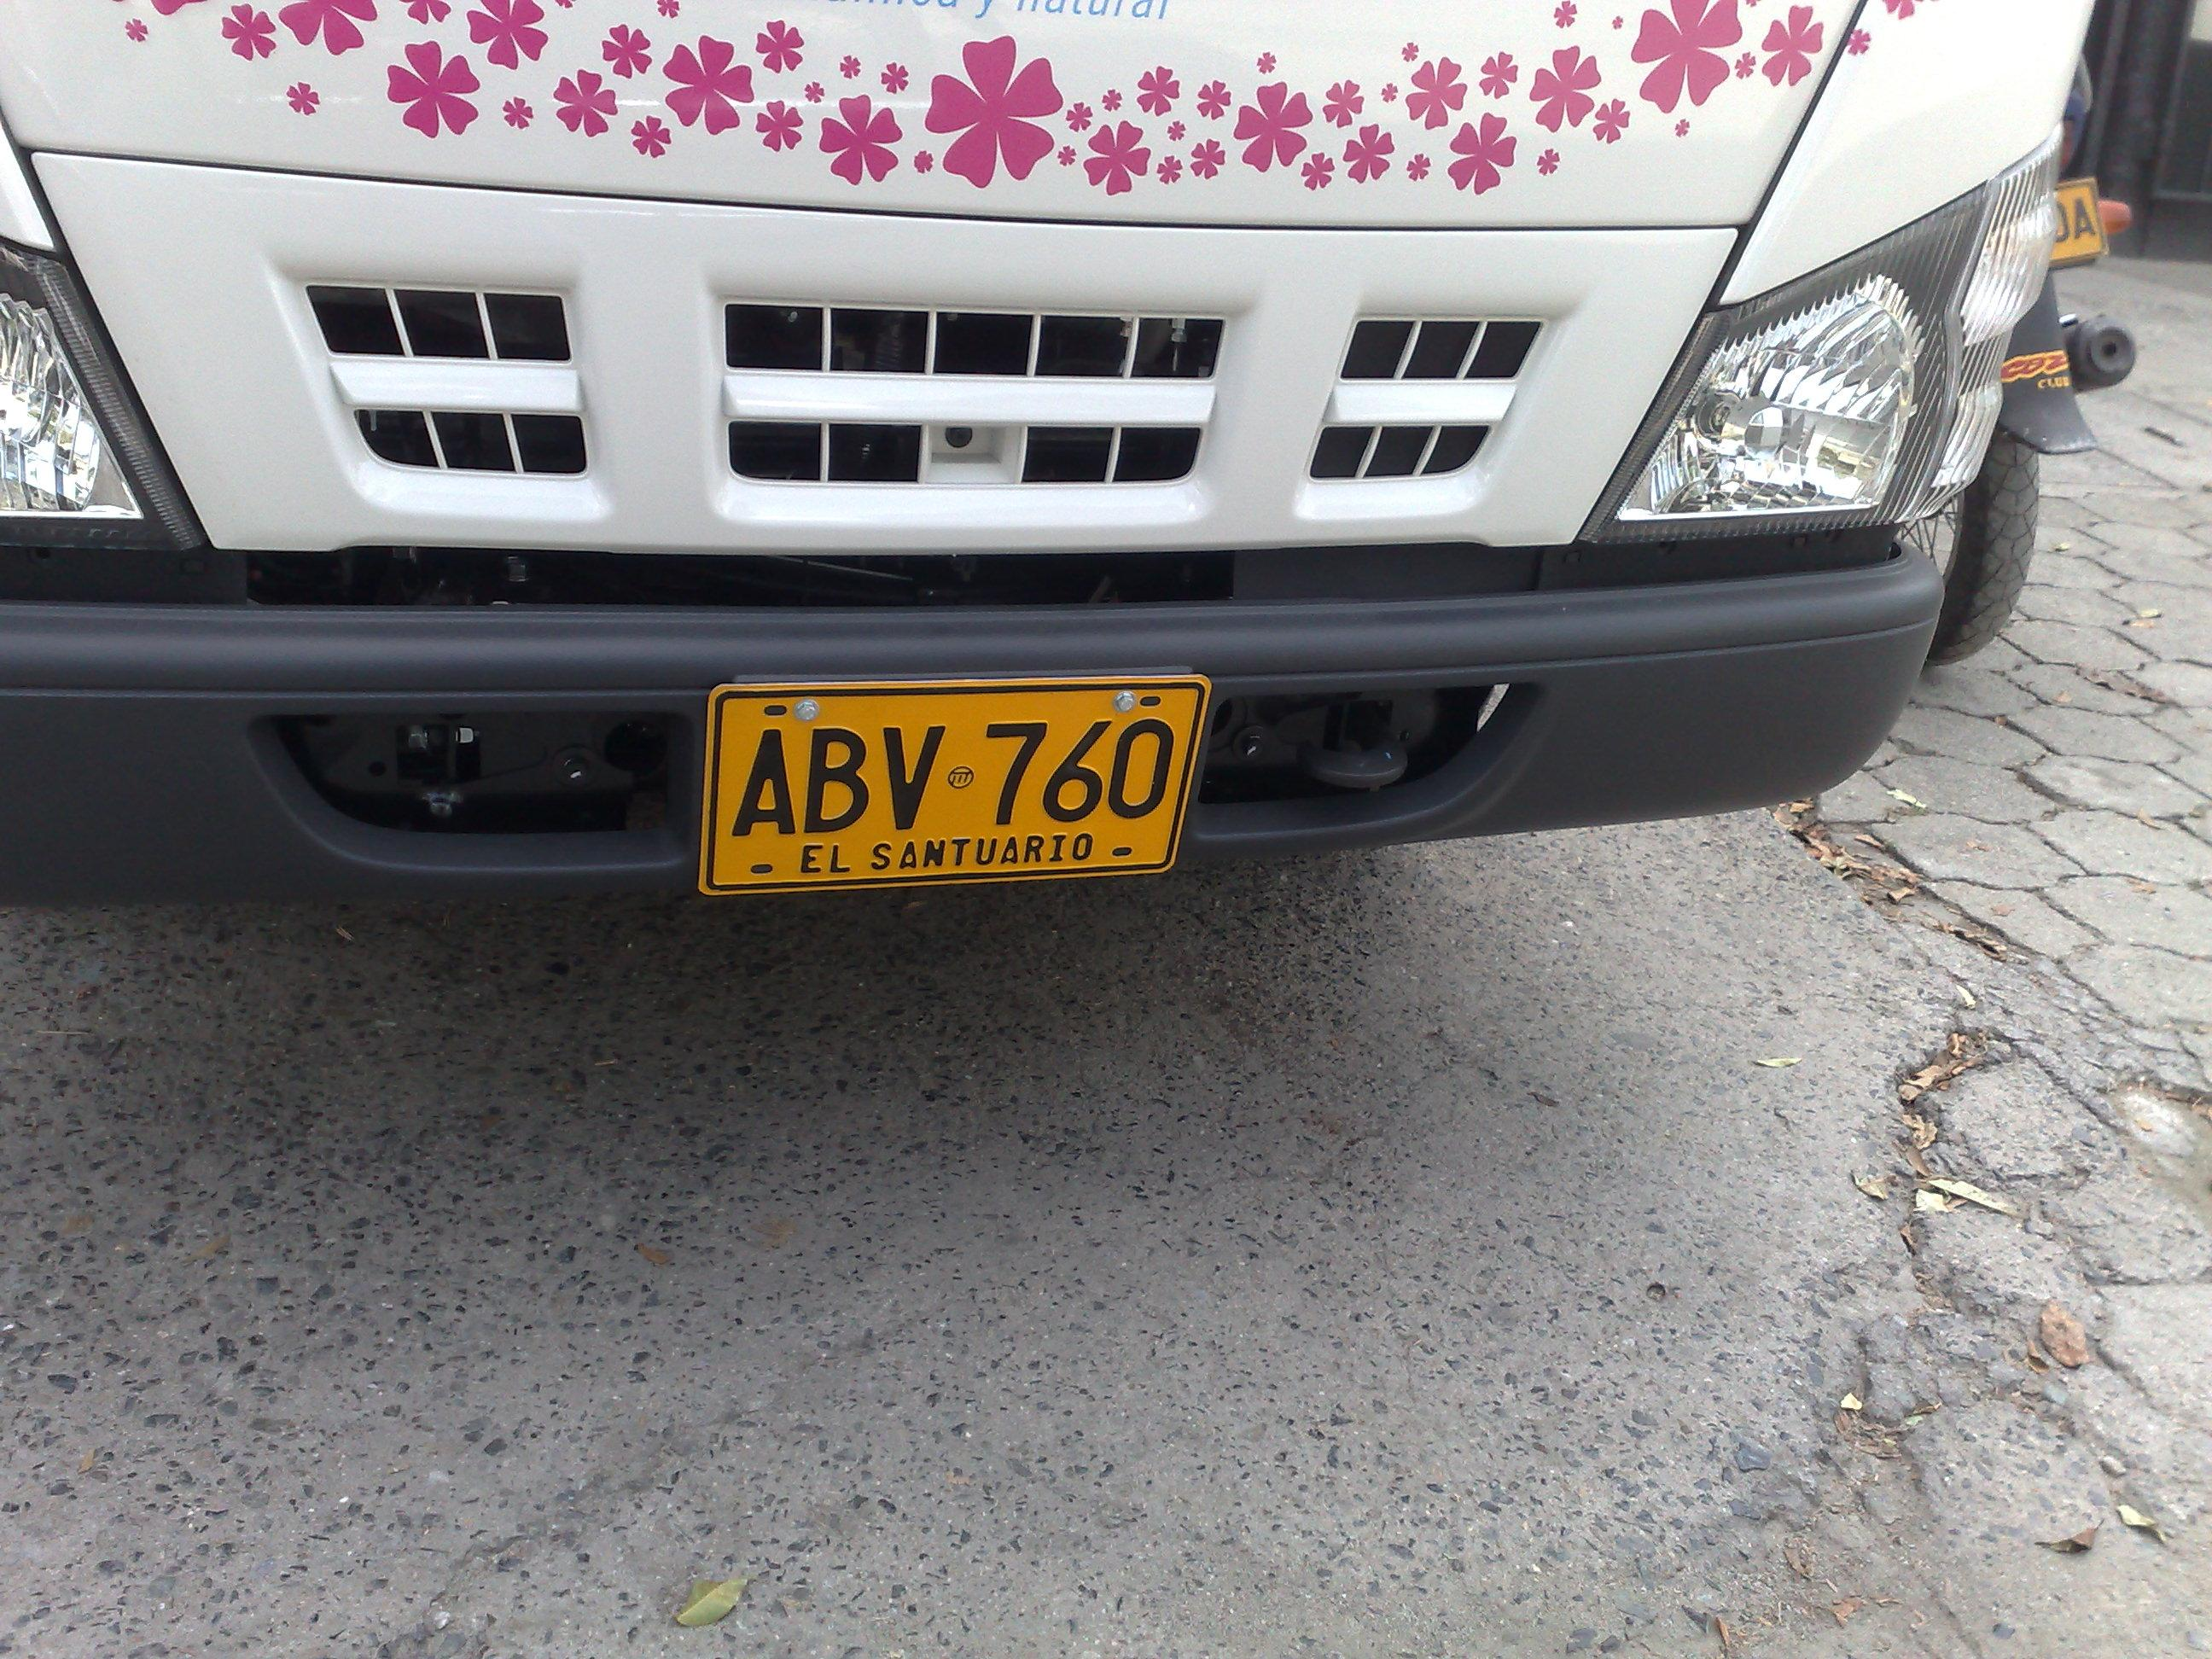placas: (691, 662, 1219, 901)
